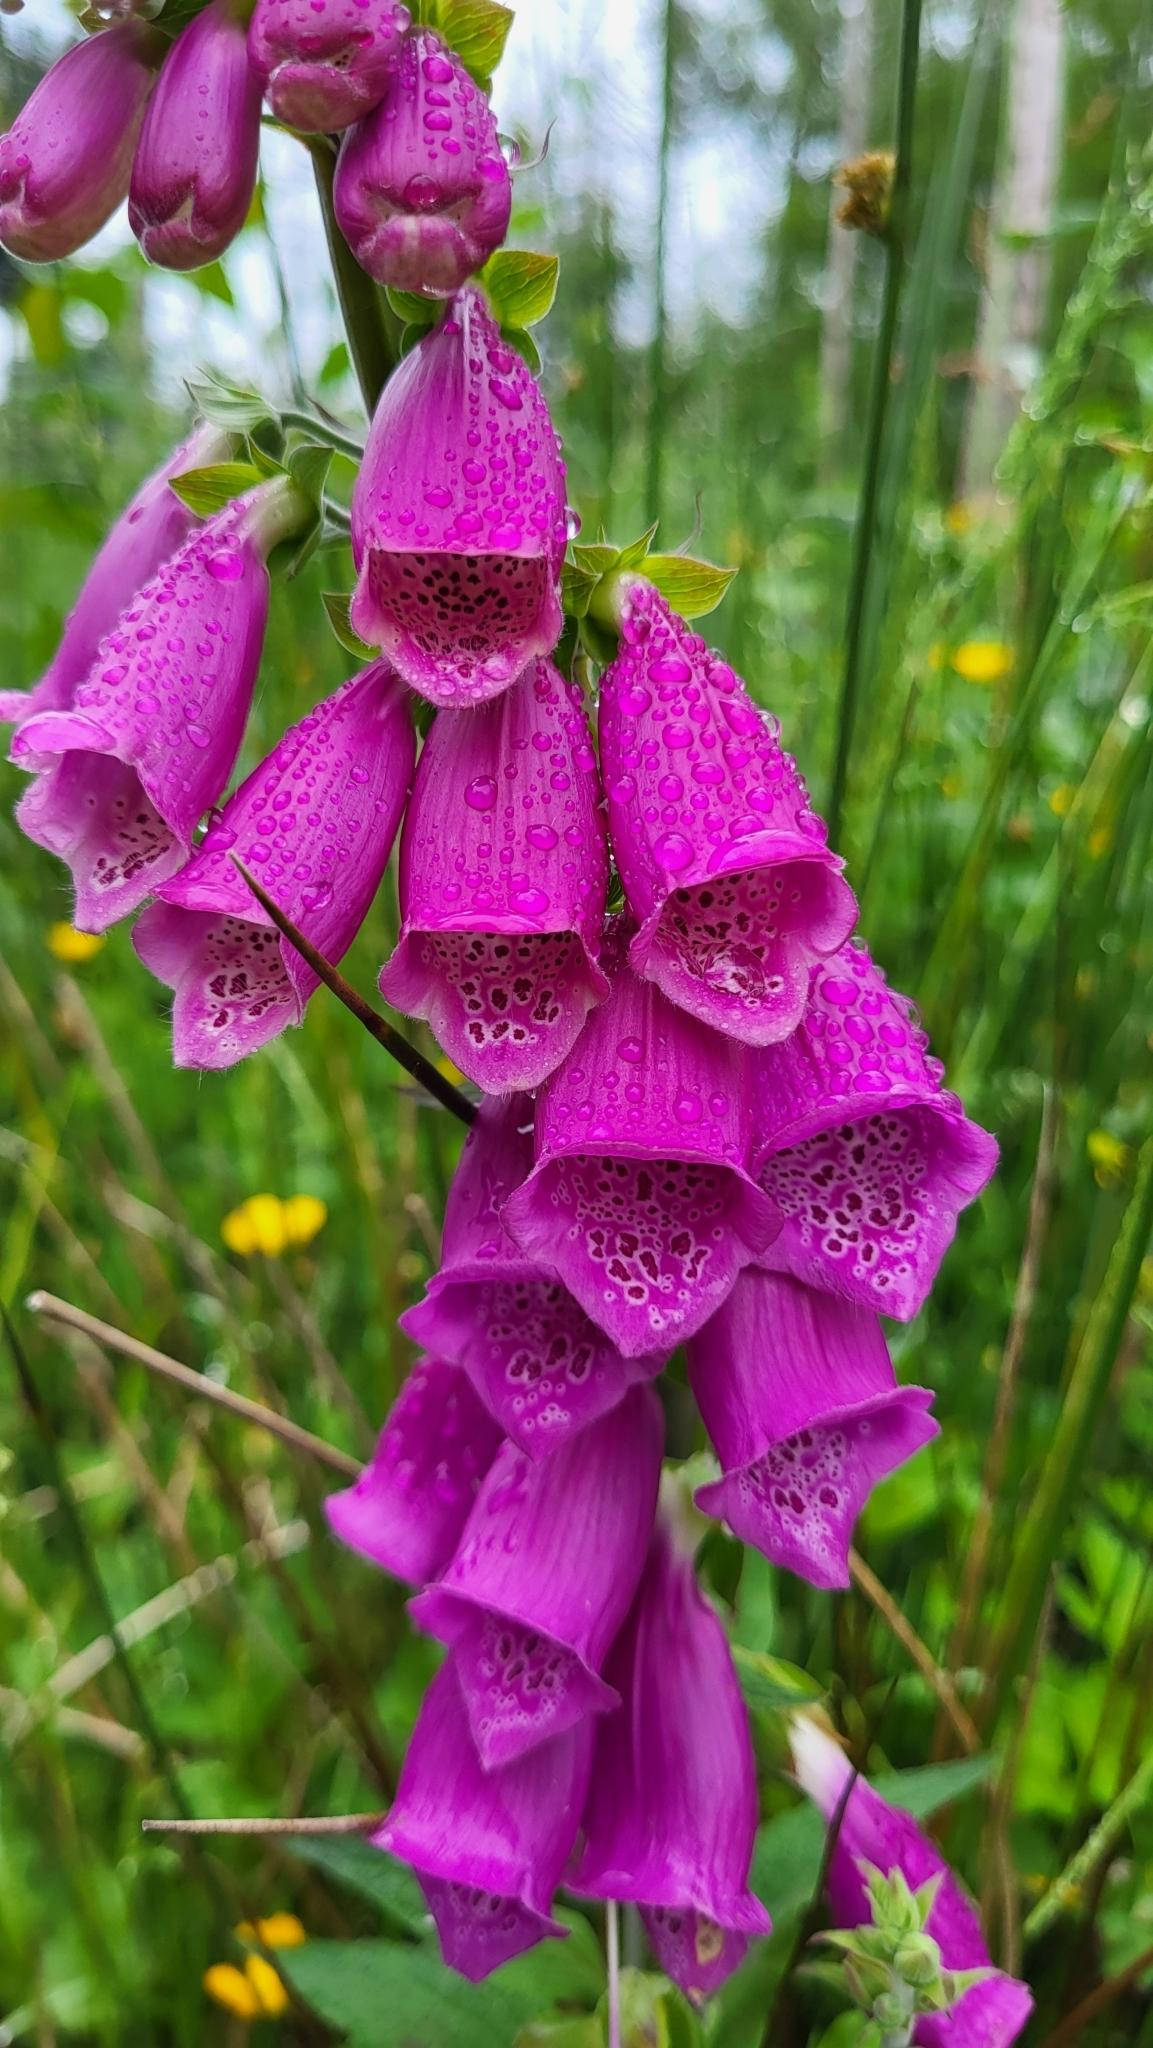Digitalis L: (0, 10, 967, 1992)
